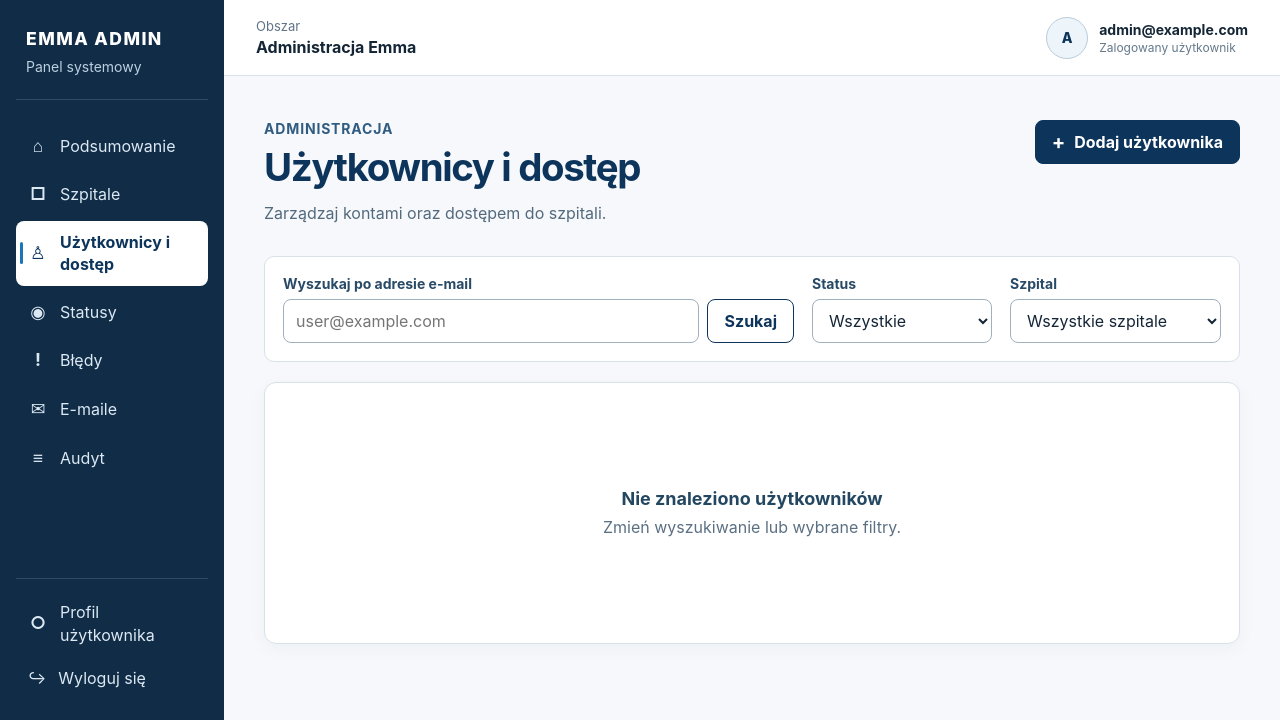
Test case: Admin users page › shows the password minimum-length information
Expected: the text "Nie znaleziono użytkowników" is shown, 621,488 -> 883,510
Click the button "+ Dodaj użytkownika" at (1137,142), box 1035,120 -> 1240,164
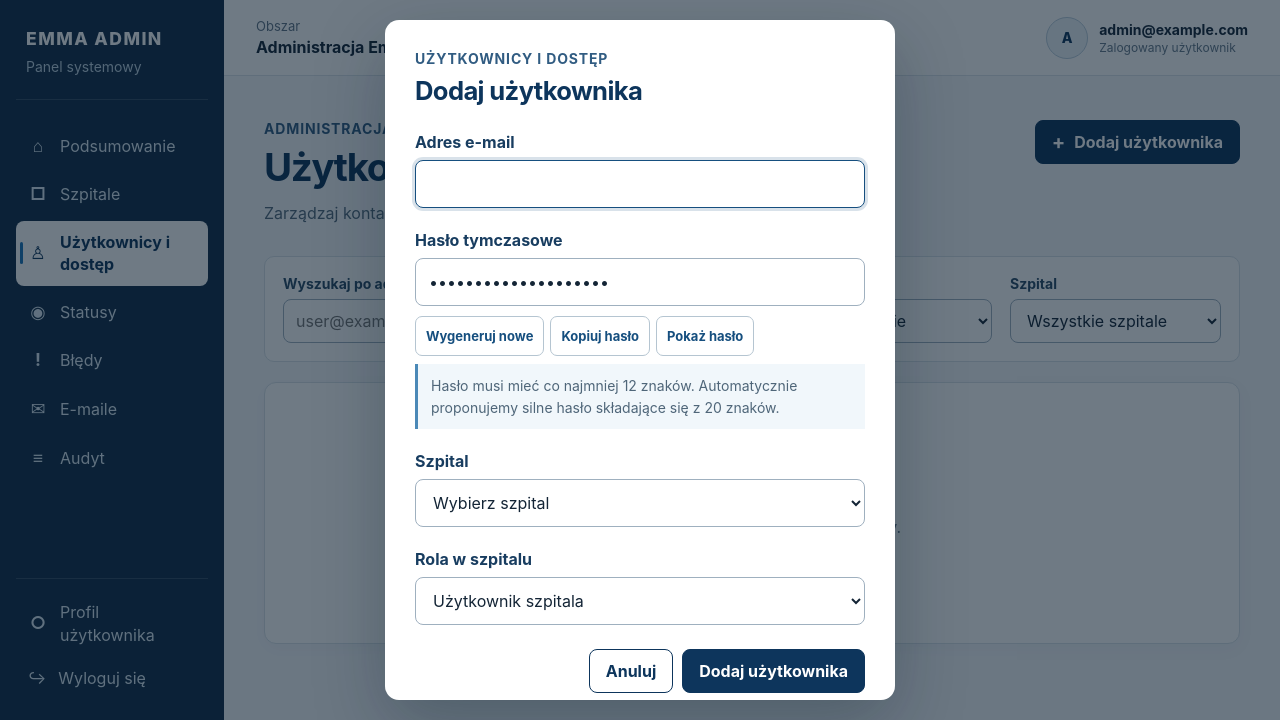
Now the text "Hasło musi mieć co najmniej 12 znaków. Automatycznie proponujemy silne hasło składające się z 20 znaków." is shown, box 431,377 -> 797,416
